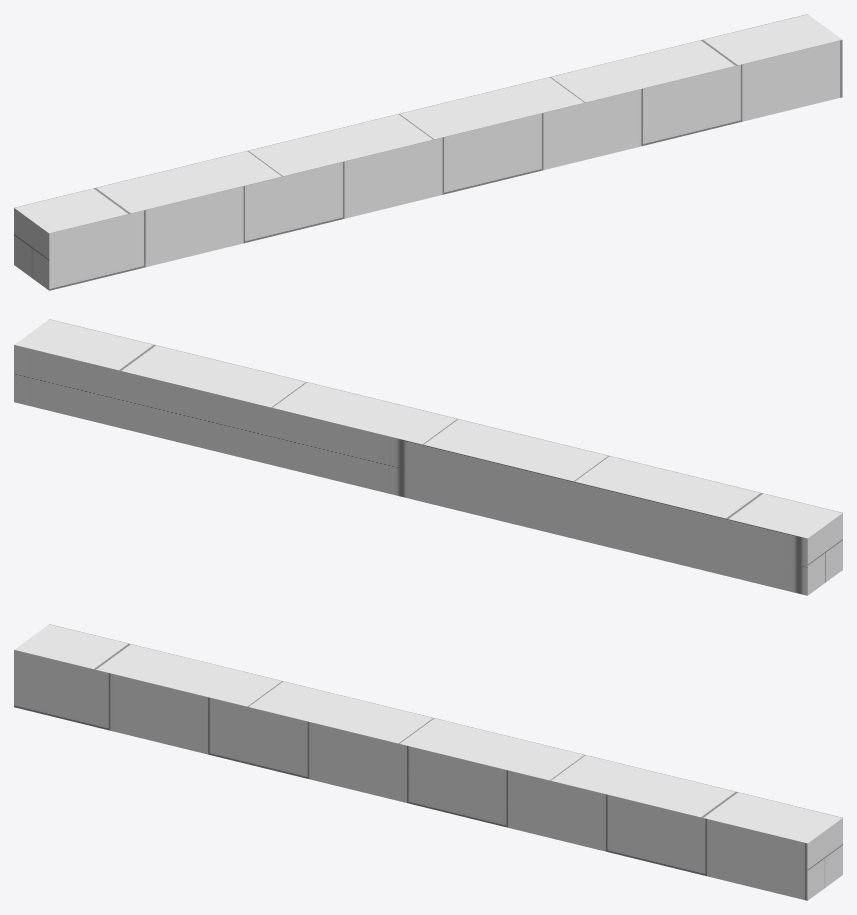
The model's file is frontTile.glb.
3 renders of one model, top to bottom at view 1: azimuth 30°, elevation 25°; view 2: azimuth 150°, elevation 25°; view 3: azimuth 330°, elevation 25°, orthographic.
Visible parts, largest first — view 1: Cube; view 2: Cube; view 3: Cube.
Boxes of the visible parts, x1=… form: Cube: x1=14, y1=14, x2=842, y2=290; Cube: x1=14, y1=319, x2=842, y2=595; Cube: x1=14, y1=624, x2=842, y2=900.
Bounding box in the file's own units: 6.8 × 0.4681 × 0.5245.
Materials: 2 (1 with a texture image).
